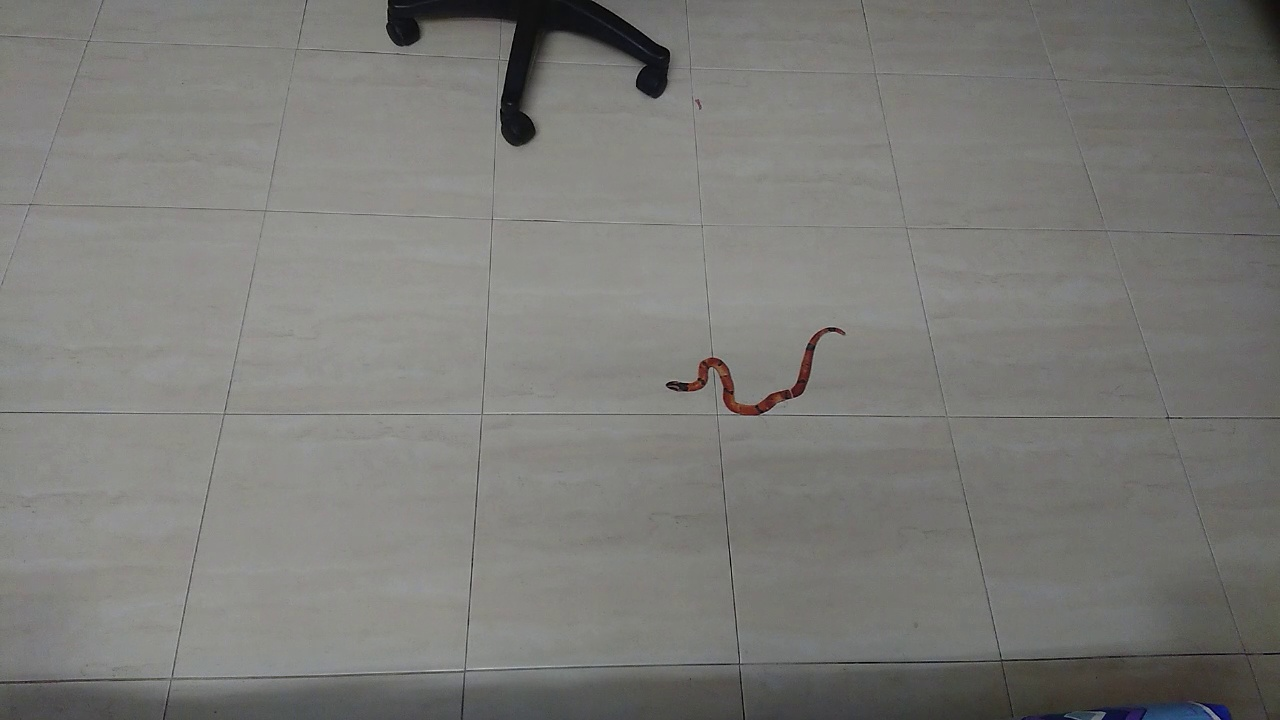snake: (650, 306, 859, 433)
